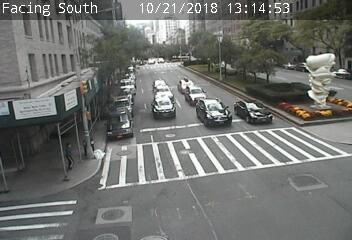car: (236, 100, 270, 122), (200, 101, 226, 121), (150, 99, 174, 117), (186, 89, 205, 105), (152, 88, 171, 96), (178, 80, 194, 89), (154, 81, 167, 86)
